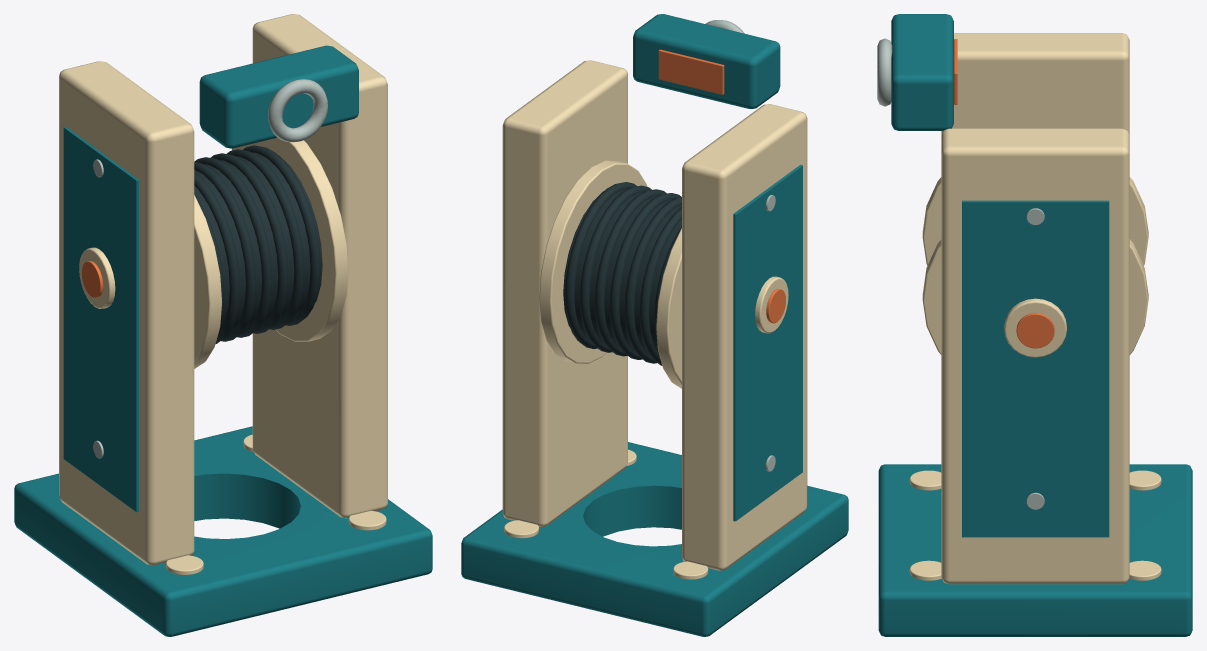
Rendered from winch-lod-0.glb.
The picture shows the model from 3 angles, left to right: view 1: azimuth 30°, elevation 25°; view 2: azimuth 150°, elevation 25°; view 3: azimuth 270°, elevation 25°; orthographic projection. The views are drawn at different scales.
Visible parts, largest first — view 1: winch_lod_0; view 2: winch_lod_0; view 3: winch_lod_0.
Part boxes in pixels (left/top/right/bottom): winch_lod_0: left=14, top=14, right=432, bottom=636; winch_lod_0: left=461, top=14, right=848, bottom=636; winch_lod_0: left=877, top=14, right=1192, bottom=636.
Size of the model in its own units: 1 by 1.87 by 1.
